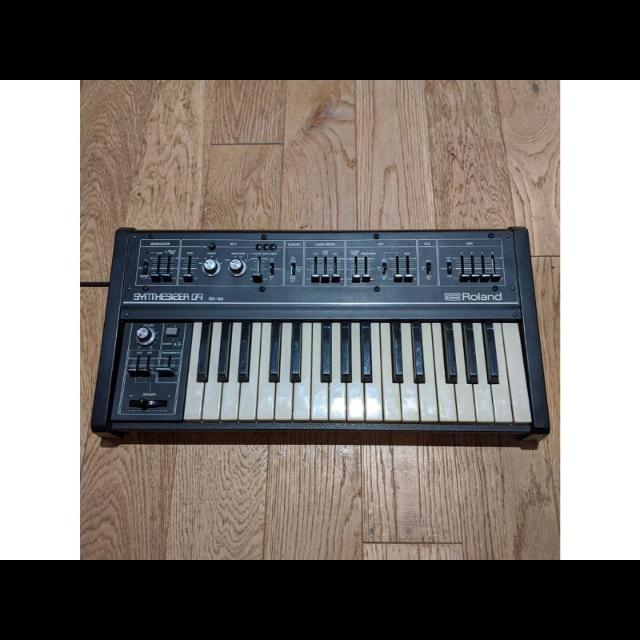Electronic-Keyboard: (94, 222, 550, 452)
